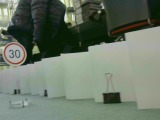speed_30: (2, 42, 27, 66)
